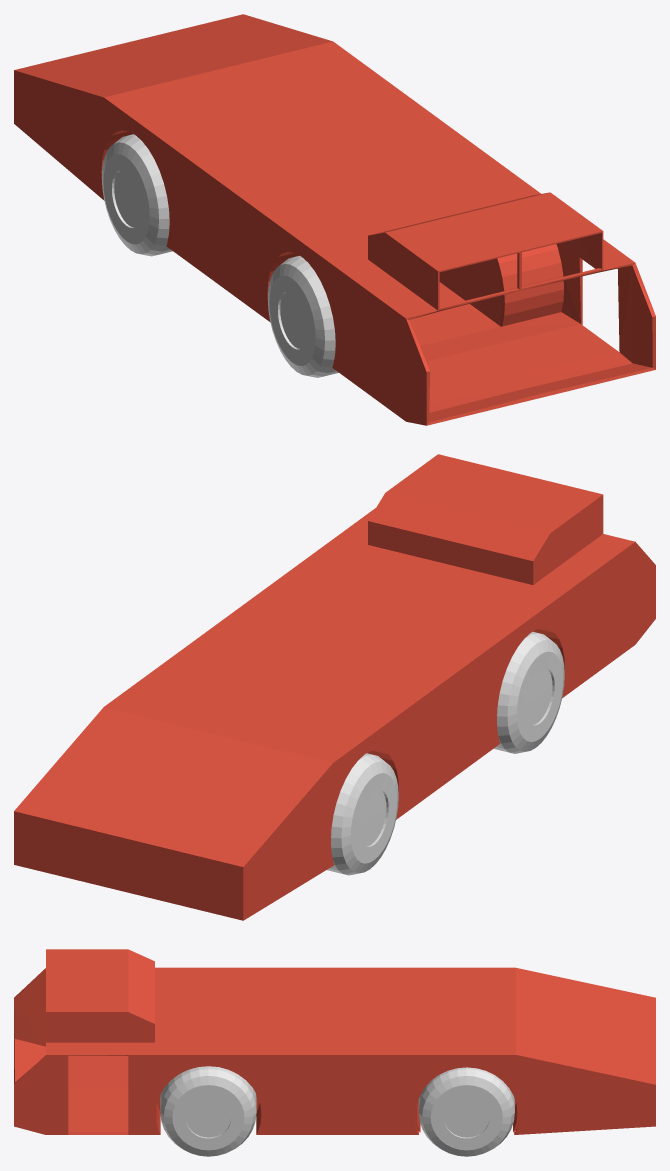
The model's file is artic snow cruiser_tox.fbx.
3 renders of one model, top to bottom at view 1: azimuth 30°, elevation 25°; view 2: azimuth 150°, elevation 25°; view 3: azimuth 270°, elevation 25°, orthographic. The views are drawn at different scales.
Parts seen in each view (by area): view 1: carBody.002, FR_wheel, RR_wheel; view 2: carBody.002, RR_wheel, FR_wheel; view 3: carBody.002, FL_wheel, RL_wheel.
Part boxes in pixels (x1,y1,x2,y2): carBody.002: (14, 14, 655, 425); FR_wheel: (267, 255, 338, 377); RR_wheel: (101, 134, 172, 256); carBody.002: (14, 454, 655, 920); RR_wheel: (327, 753, 398, 875); FR_wheel: (494, 632, 564, 753); carBody.002: (14, 949, 655, 1134); FL_wheel: (160, 1066, 256, 1156); RL_wheel: (418, 1067, 514, 1156).
Size of the model in its own units: 367 by 244 by 1060.
